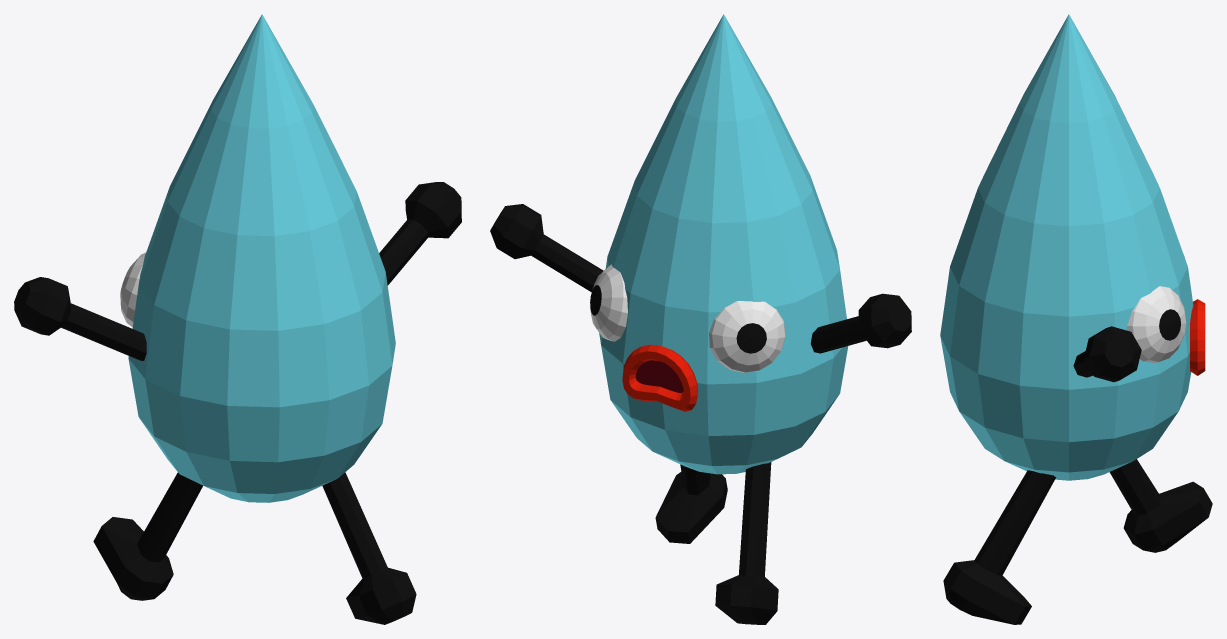
File: SteveRun.fbx
3 renders of one model, left to right at view 1: azimuth 30°, elevation 25°; view 2: azimuth 150°, elevation 25°; view 3: azimuth 270°, elevation 25°, orthographic. The views are drawn at different scales.
Visible parts, largest first — view 1: Steven; view 2: Steven; view 3: Steven.
Boxes of the visible parts, left/top/right/bottom form: Steven: left=14, top=14, right=461, bottom=624; Steven: left=490, top=14, right=911, bottom=624; Steven: left=940, top=14, right=1212, bottom=624.
Size of the model in its own units: 379 by 490 by 212.
